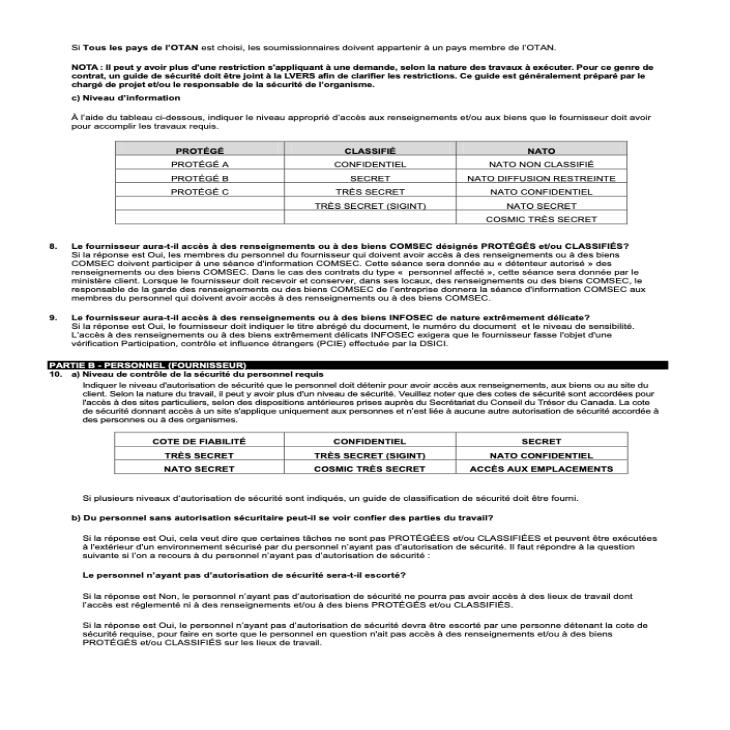tabulation: (108, 136, 635, 232), (106, 426, 642, 480)
